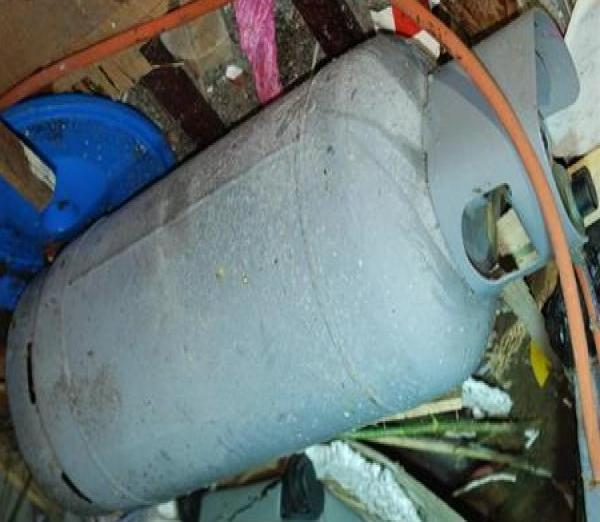cylinder: (1, 1, 600, 522)
